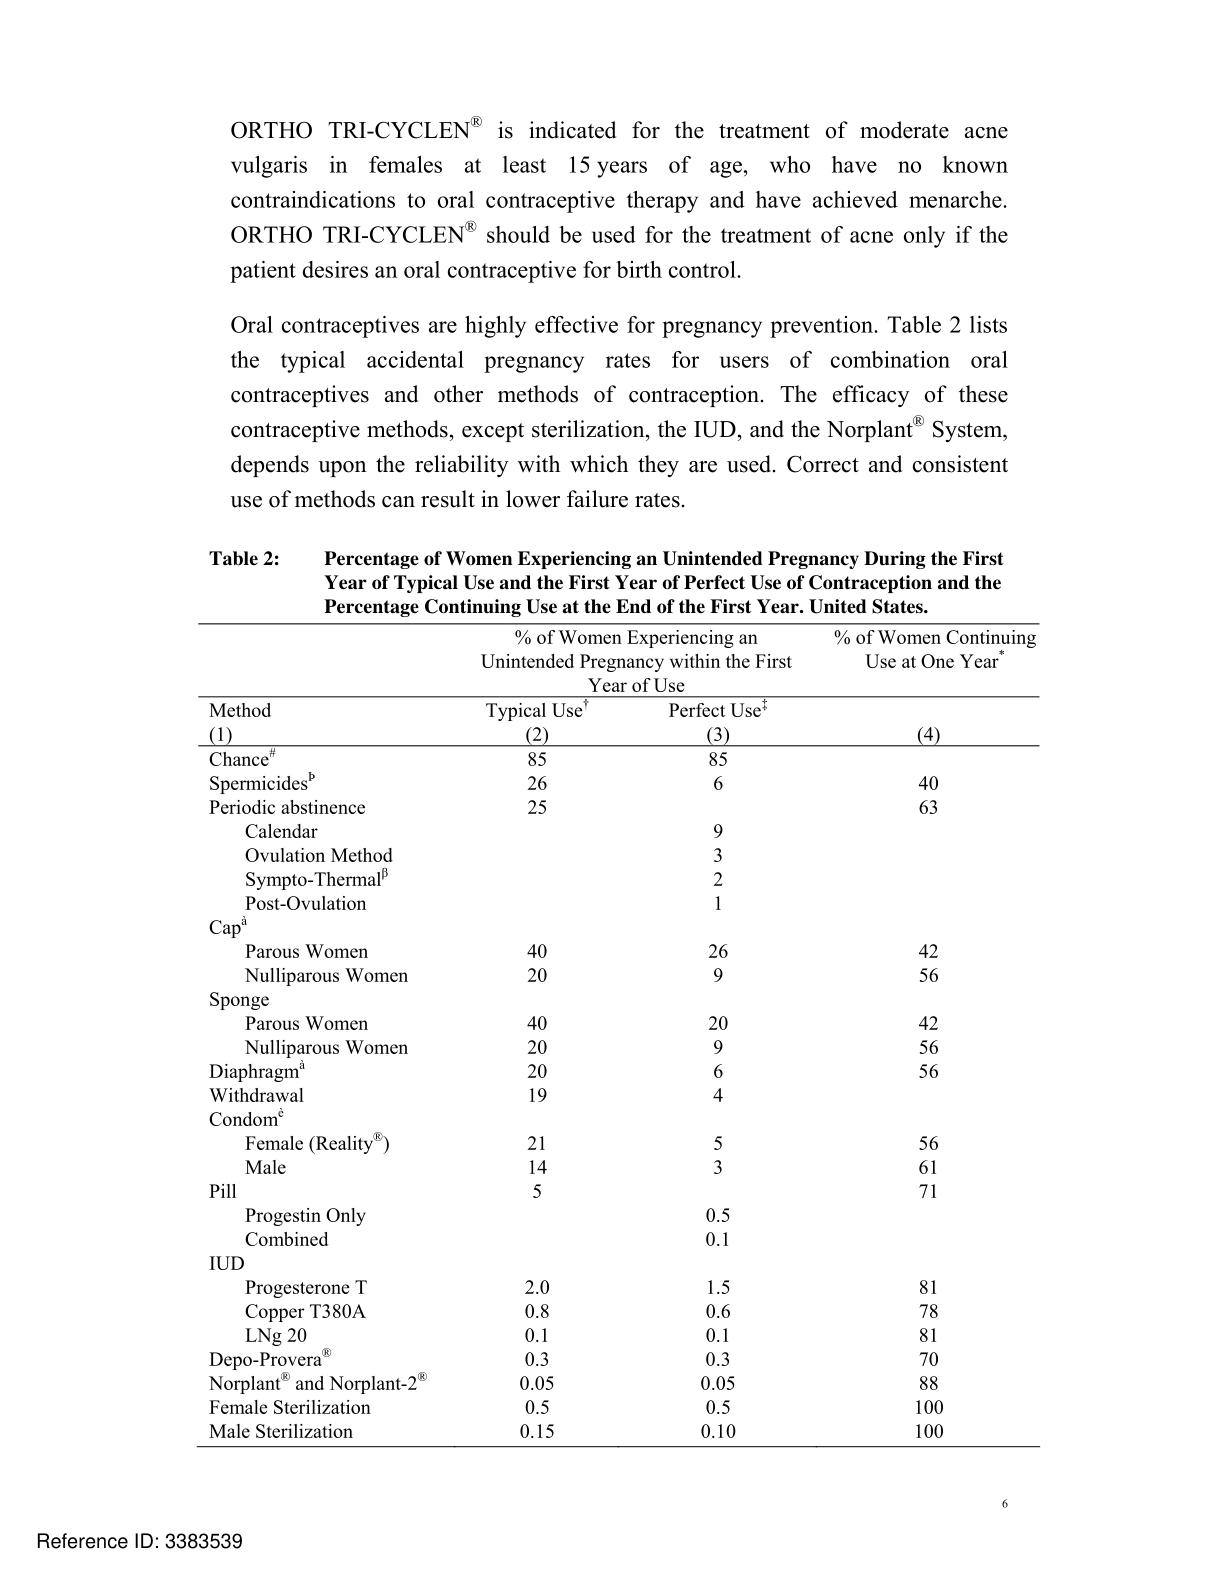partial_lined_merged_cells: (194, 621, 1043, 1448)
